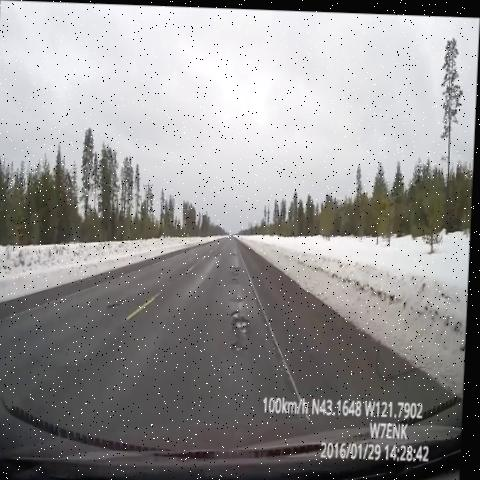pothole: (225, 302, 257, 366), (106, 292, 129, 321), (230, 255, 247, 285), (212, 239, 227, 264), (232, 290, 248, 304), (230, 246, 243, 259)
